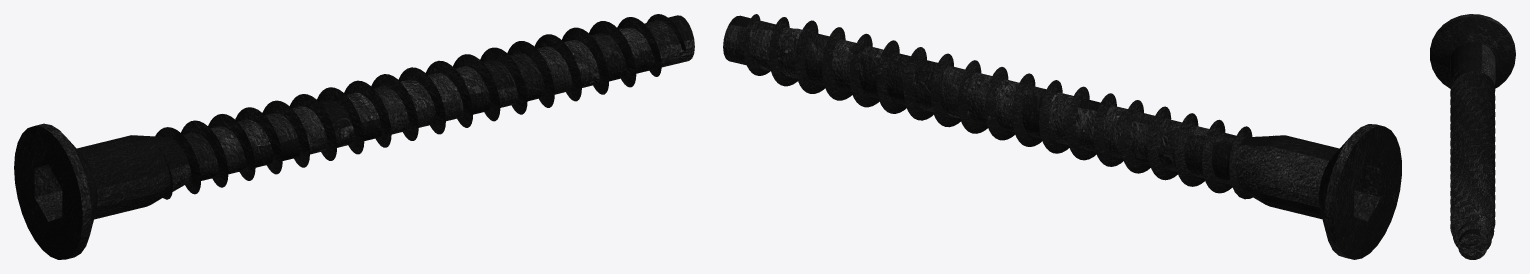
File: ikea_stefan_bolt_side.obj
3 renders of one model, left to right at view 1: azimuth 30°, elevation 25°; view 2: azimuth 150°, elevation 25°; view 3: azimuth 270°, elevation 25°, orthographic. The views are drawn at different scales.
Parts seen in each view (by area): view 1: Stefan_Side; view 2: Stefan_Side; view 3: Stefan_Side.
Part boxes in pixels (<box>): Stefan_Side: <box>14,14,694,259</box>; Stefan_Side: <box>723,14,1401,259</box>; Stefan_Side: <box>1430,14,1515,259</box>.
Size of the model in its own units: 0.0595 by 0.0112 by 0.0111.
Materials: 1 (1 with a texture image).
